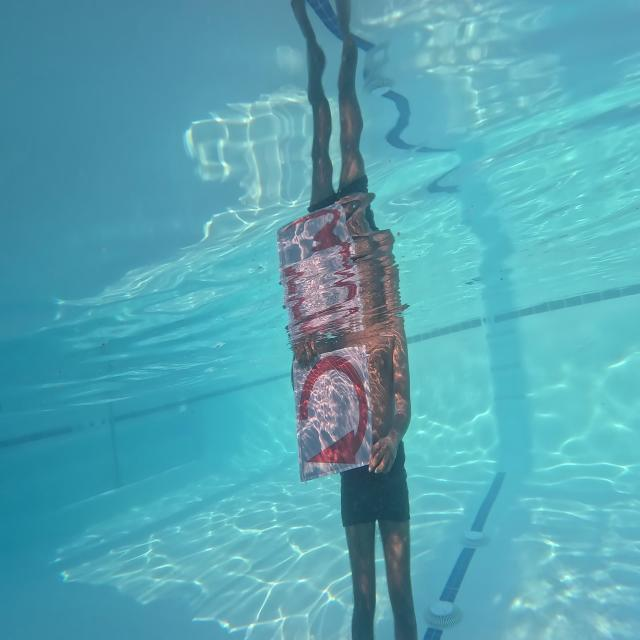red_side: (287, 346, 384, 482)
